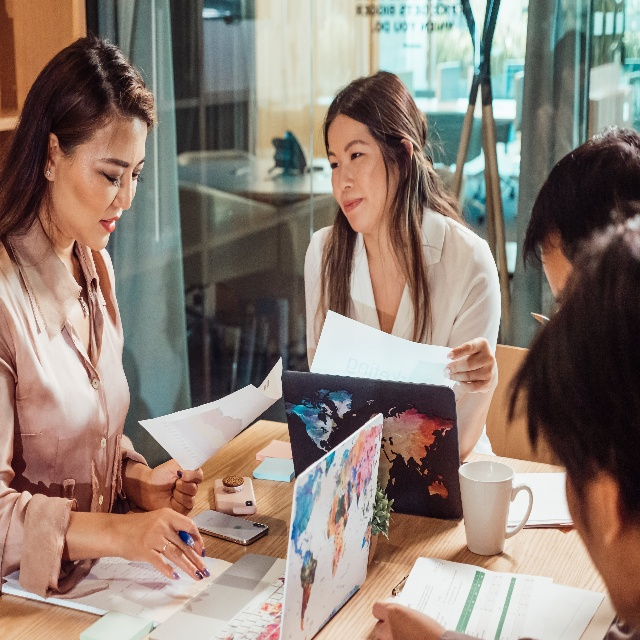Sin_guantes: (124, 507, 210, 584), (146, 457, 205, 520), (443, 336, 499, 396)
